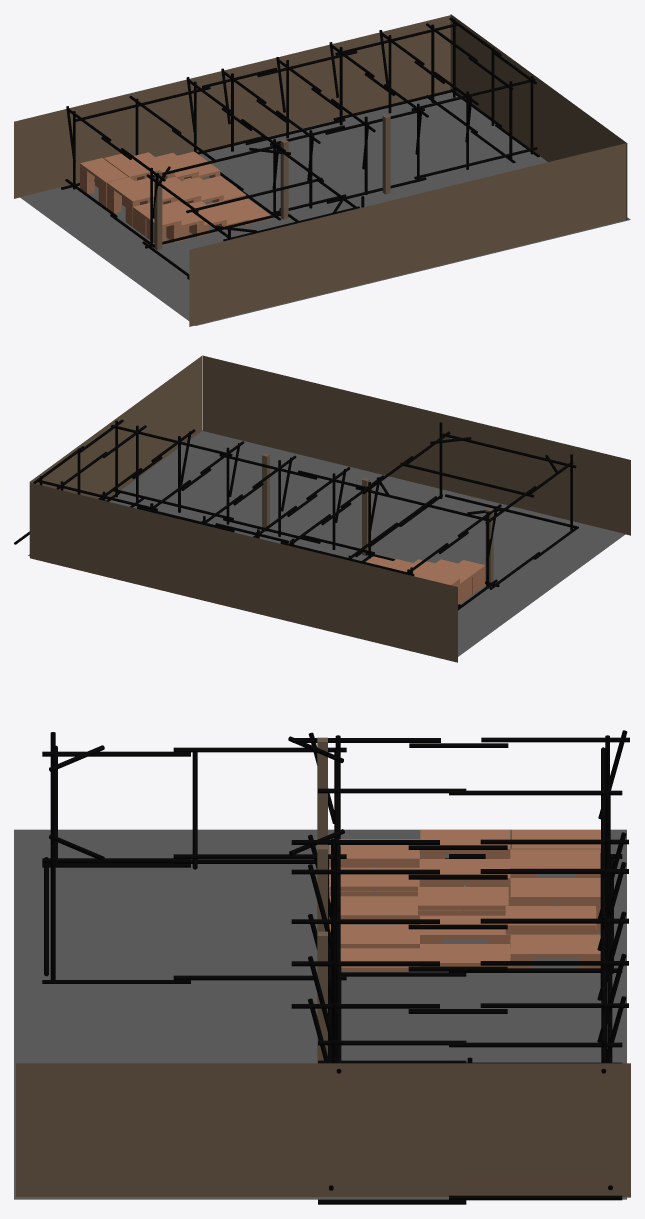
File: medium.glb
3 views of the same model, one above another, from view 1: azimuth 30°, elevation 25°; view 2: azimuth 150°, elevation 25°; view 3: azimuth 270°, elevation 25° (orthographic). The views are drawn at different scales.
Visible parts, largest first — view 1: Plane.002, Plane, Plane.001, Plane.003, Cube.009, Cube.006, v.019, Cylinder.077, Cylinder.078, Cylinder.076, Cylinder.079, v.014 (+20 smaller); view 2: Plane.001, Plane, Plane.002, Plane.003, v.019, Cylinder.076, Cylinder.077, Cylinder.078, Cylinder.079, Cylinder.080, Cylinder.081, Cube.001 (+6 smaller); view 3: Plane, Plane.003, Cylinder.076, Cylinder.080, Cylinder.078, v.002, v.003, Cylinder.081, Cylinder.077, Cube.014, Cylinder.079, v.004 (+24 smaller).
Boxes of the visible parts, bbox=[...] form: Plane.002: bbox=[189, 143, 626, 326]; Plane: bbox=[20, 92, 630, 325]; Plane.001: bbox=[14, 15, 450, 198]; Plane.003: bbox=[450, 14, 627, 219]; Cube.009: bbox=[106, 177, 154, 226]; Cube.006: bbox=[80, 158, 127, 207]; v.019: bbox=[133, 202, 181, 245]; Cylinder.077: bbox=[379, 30, 478, 142]; Cylinder.078: bbox=[276, 57, 375, 169]; Cylinder.076: bbox=[329, 42, 428, 154]; Cylinder.079: bbox=[186, 77, 285, 189]; v.014: bbox=[162, 201, 204, 240]; Plane.001: bbox=[30, 482, 457, 662]; Plane: bbox=[28, 430, 625, 656]; Plane.002: bbox=[203, 355, 630, 535]; Plane.003: bbox=[29, 355, 202, 556]; v.019: bbox=[443, 560, 485, 603]; Cylinder.076: bbox=[147, 441, 244, 512]; Cylinder.077: bbox=[98, 429, 195, 500]; Cylinder.078: bbox=[201, 455, 296, 525]; Cylinder.079: bbox=[287, 475, 384, 546]; Cylinder.080: bbox=[253, 467, 350, 538]; Cylinder.081: bbox=[405, 504, 501, 575]; Cube.001: bbox=[262, 453, 269, 531]; Plane: bbox=[14, 829, 626, 1199]; Plane.003: bbox=[16, 1063, 630, 1197]; Cylinder.076: bbox=[291, 953, 628, 1046]; Cylinder.080: bbox=[291, 862, 628, 953]; Cylinder.078: bbox=[291, 911, 628, 1002]; v.002: bbox=[510, 878, 600, 932]; v.003: bbox=[418, 886, 508, 915]; Cylinder.081: bbox=[292, 730, 629, 823]; Cylinder.077: bbox=[291, 996, 628, 1062]; Cube.014: bbox=[510, 934, 600, 968]; Cylinder.079: bbox=[291, 832, 628, 919]; v.004: bbox=[505, 906, 596, 934].
Size of the model in its own units: 18.53 by 3.21 by 12.47.
